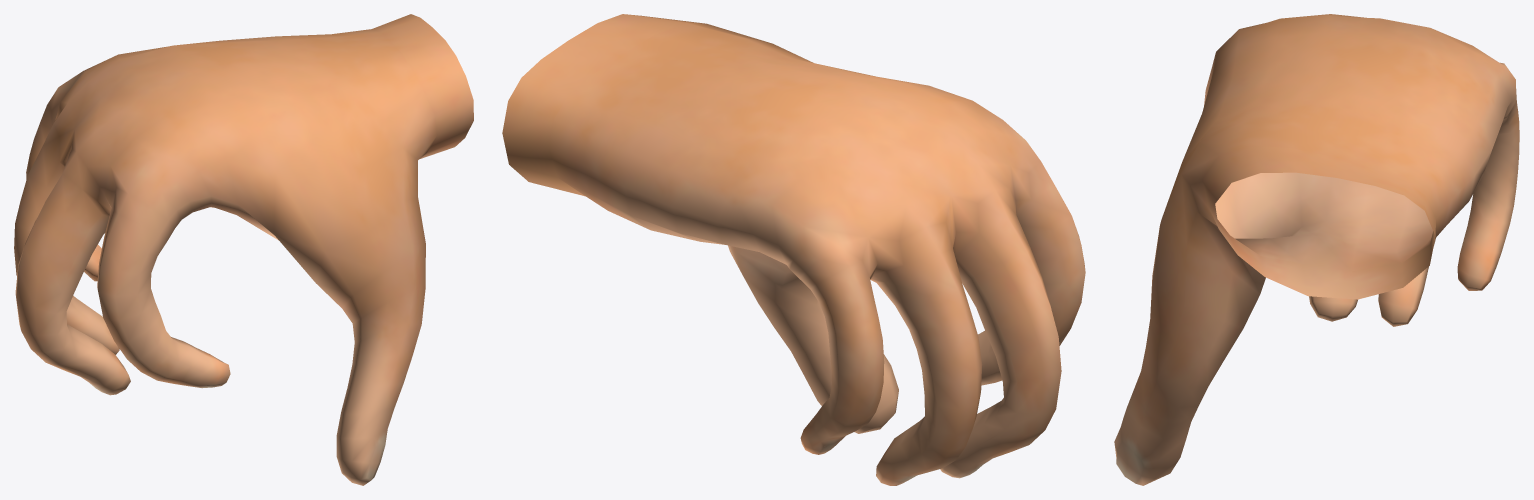
Rendered from H_tweeze_open.fbx.
The picture shows the model from 3 angles, left to right: view 1: azimuth 30°, elevation 25°; view 2: azimuth 150°, elevation 25°; view 3: azimuth 270°, elevation 25°; orthographic projection. The views are drawn at different scales.
Parts seen in each view (by area): view 1: H_tweeze_open; view 2: H_tweeze_open; view 3: H_tweeze_open.
Boxes of the visible parts, x1,y1,x2,y2 form: H_tweeze_open: (14, 14, 473, 485); H_tweeze_open: (502, 14, 1085, 485); H_tweeze_open: (1114, 14, 1519, 485).
Size of the model in its own units: 15.05 by 12.41 by 11.21.
Materials: 1 (1 with a texture image).
